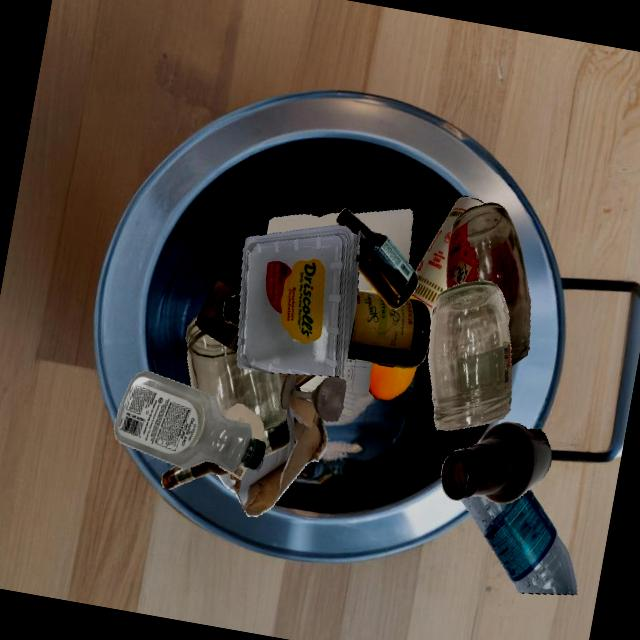biowaste: (371, 290, 421, 368), (368, 361, 411, 400)
cardboard: (217, 396, 327, 516), (194, 267, 241, 352)
glass: (446, 202, 530, 365), (428, 280, 511, 430), (185, 314, 286, 430), (440, 421, 552, 502), (335, 208, 418, 309), (347, 291, 430, 368), (280, 373, 346, 421), (161, 461, 229, 489), (261, 418, 289, 457)
paper: (291, 213, 367, 281), (311, 290, 357, 392), (352, 208, 412, 262), (340, 358, 372, 415), (224, 403, 264, 441)
plastic: (236, 225, 360, 376), (113, 370, 265, 472), (460, 488, 576, 594)
trash: (411, 196, 485, 323)
